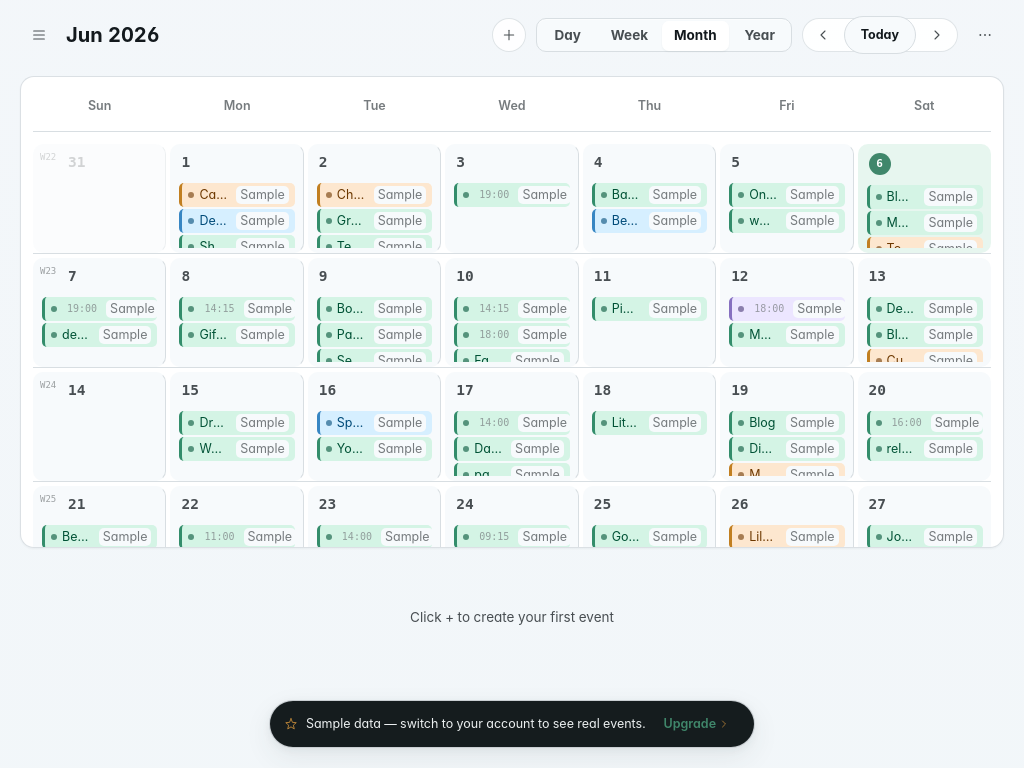
Test: Nav arrows step by view (AC-NAV-EXT-1..3) › AC-NAV-EXT-1: when view=month, prev/next step ±1 month
Click the button with test id "cal-next-month".
click(937, 35)  # box 920,18 -> 954,52
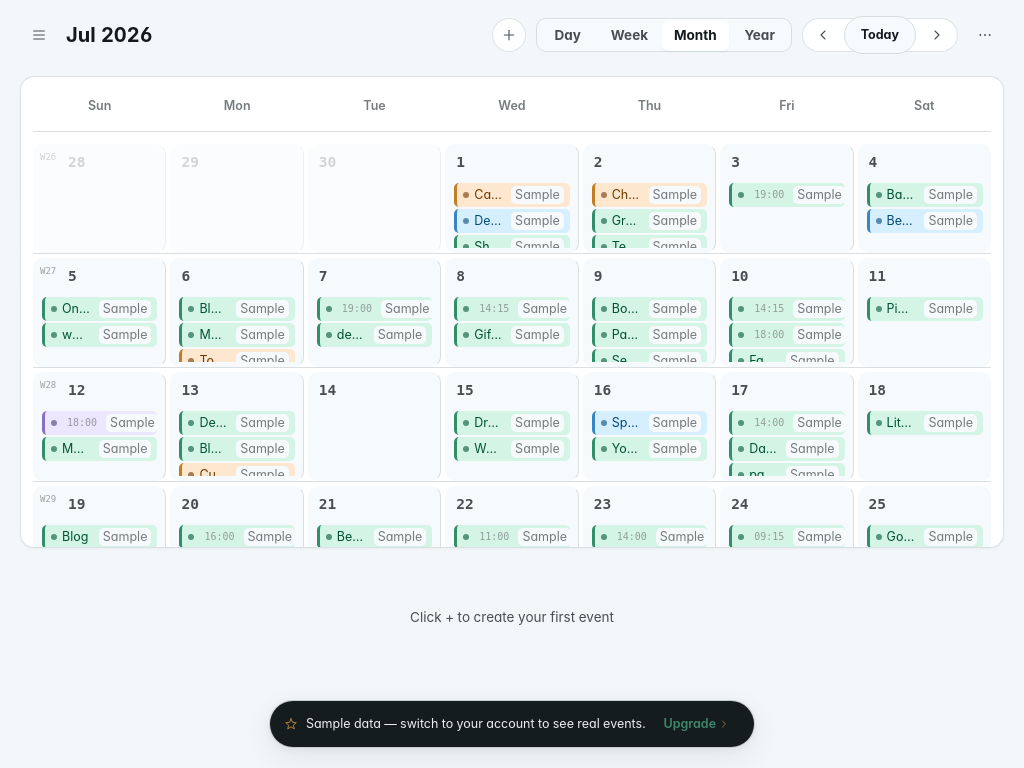
Check: the heading "Jun 2026" no longer shows "Jun 2026"
Click the button with test id "cal-prev-month".
click(823, 35)  # box 806,18 -> 840,52
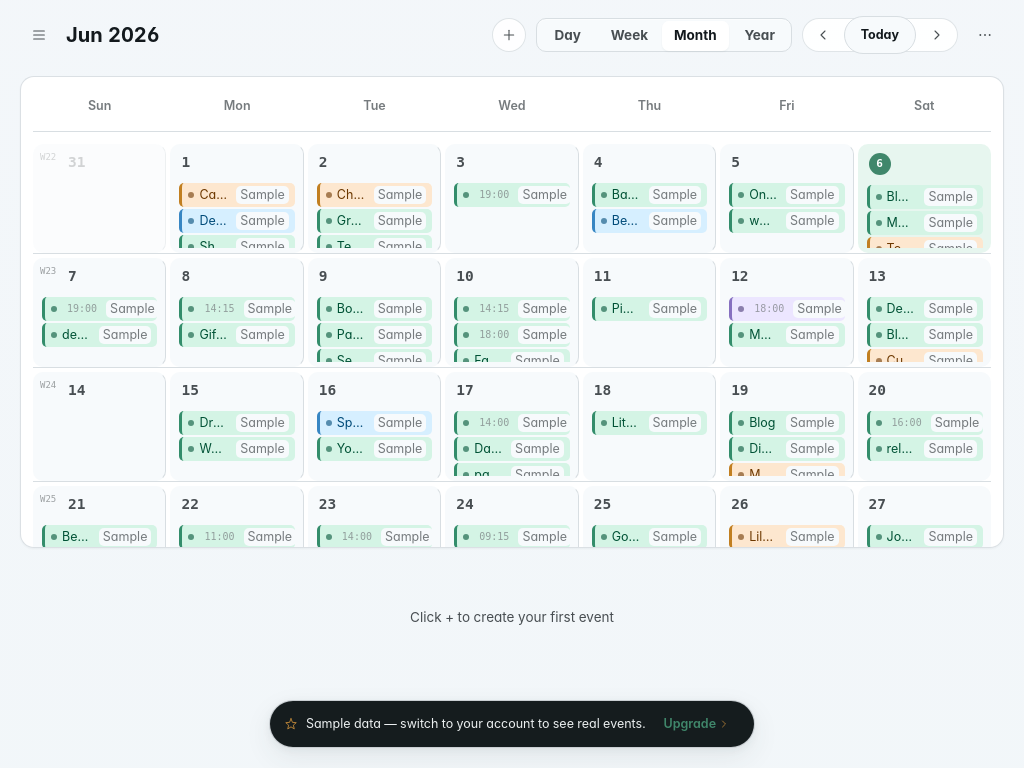
Check: the heading reads "Jun 2026", box 66,22 -> 160,46
